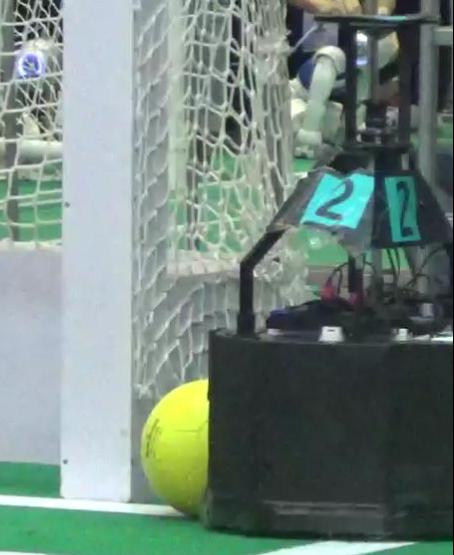robot: (192, 3, 454, 543)
